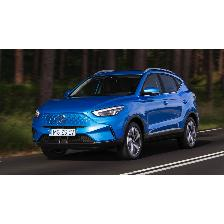EV: (34, 69, 201, 161)
